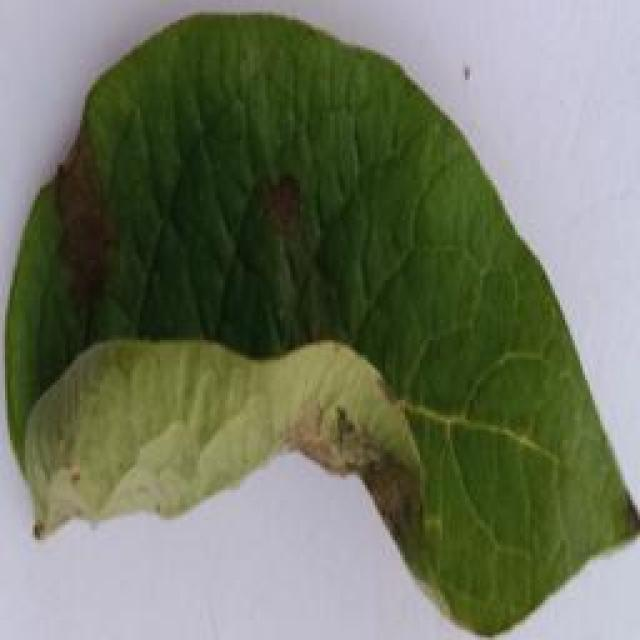Potato_Late_Blight: (7, 11, 626, 634)
